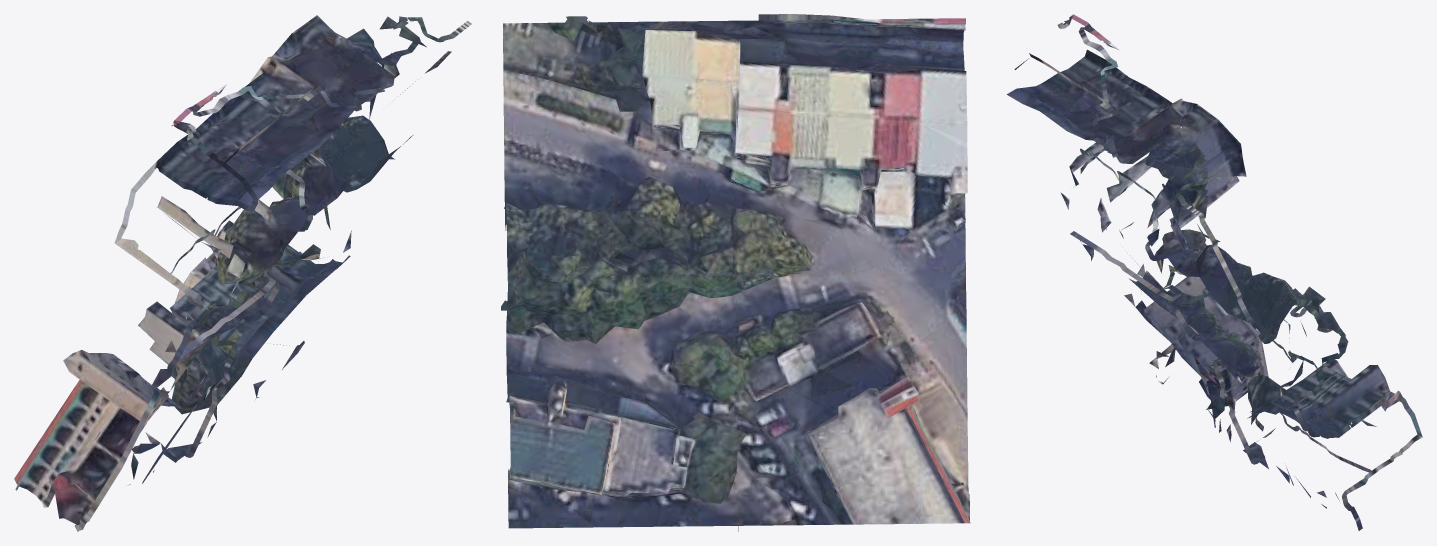
The picture shows the model from 3 angles, left to right: view 1: azimuth 30°, elevation 25°; view 2: azimuth 150°, elevation 25°; view 3: azimuth 270°, elevation 25°; orthographic projection. The views are drawn at different scales.
Size of the model in its own units: 82.93 by 77.4 by 74.26.
1 material, 1 textured.
